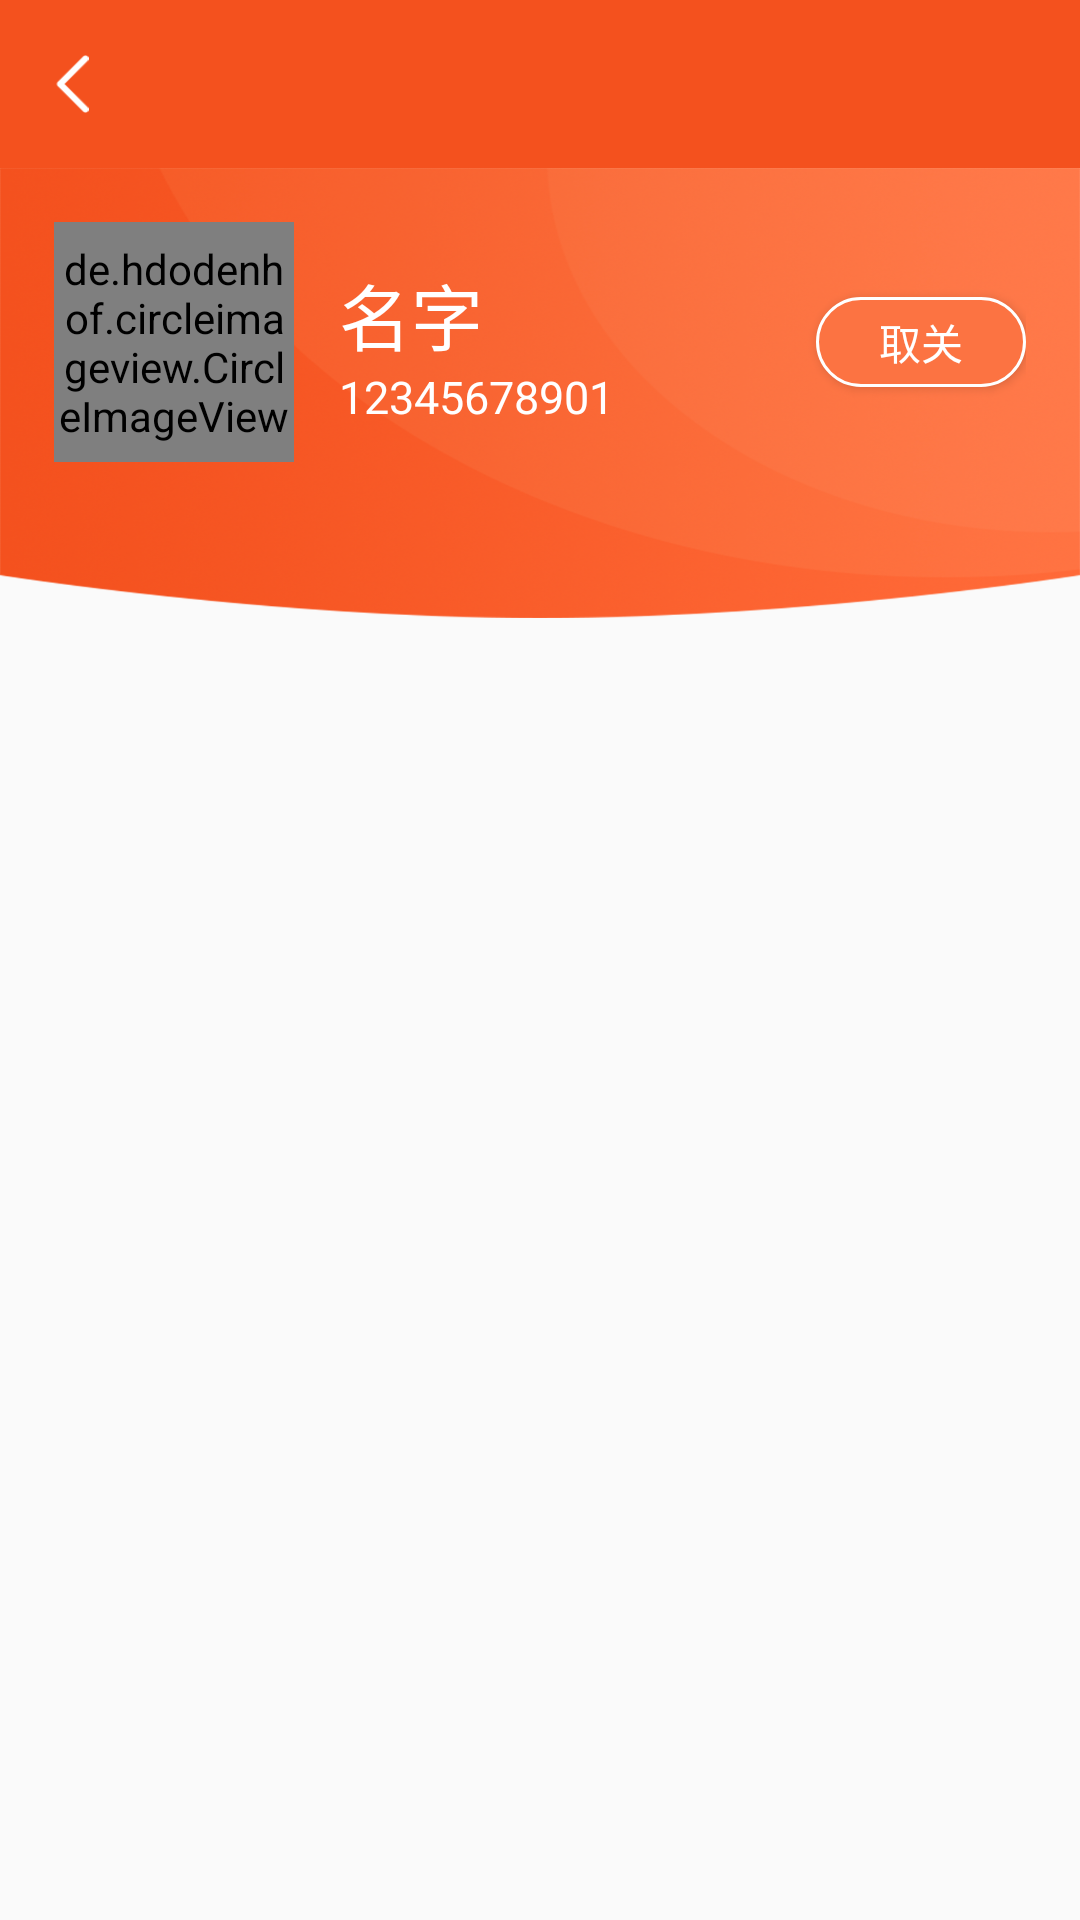

Named icons in this screenshot (1080×1920) and their bounding boxes, Rect(x1, y1, x2, y2):
fanhui: Rect(56, 55, 89, 113)
